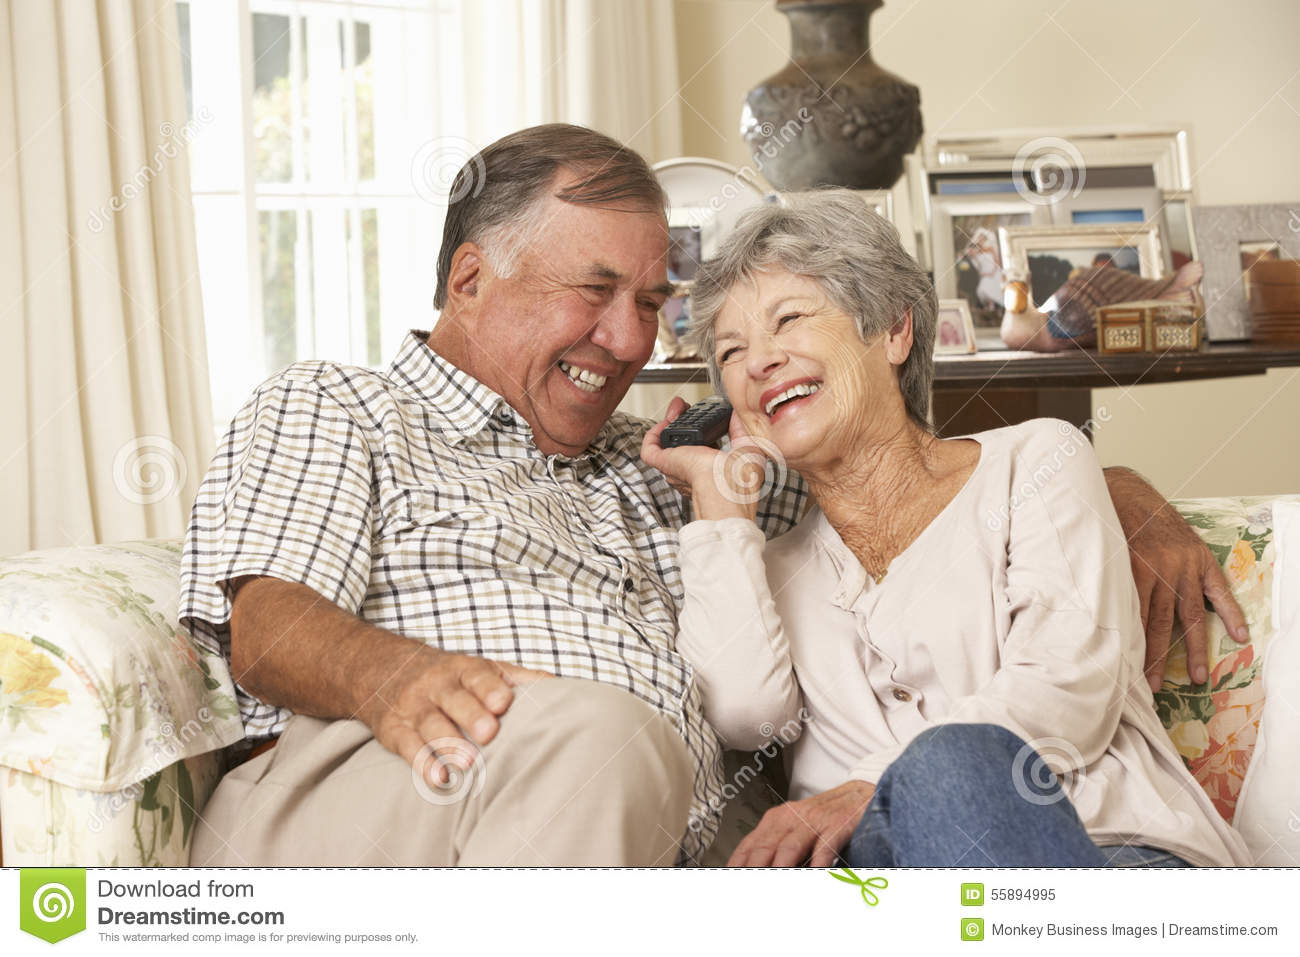talk: (649, 287, 837, 518)
